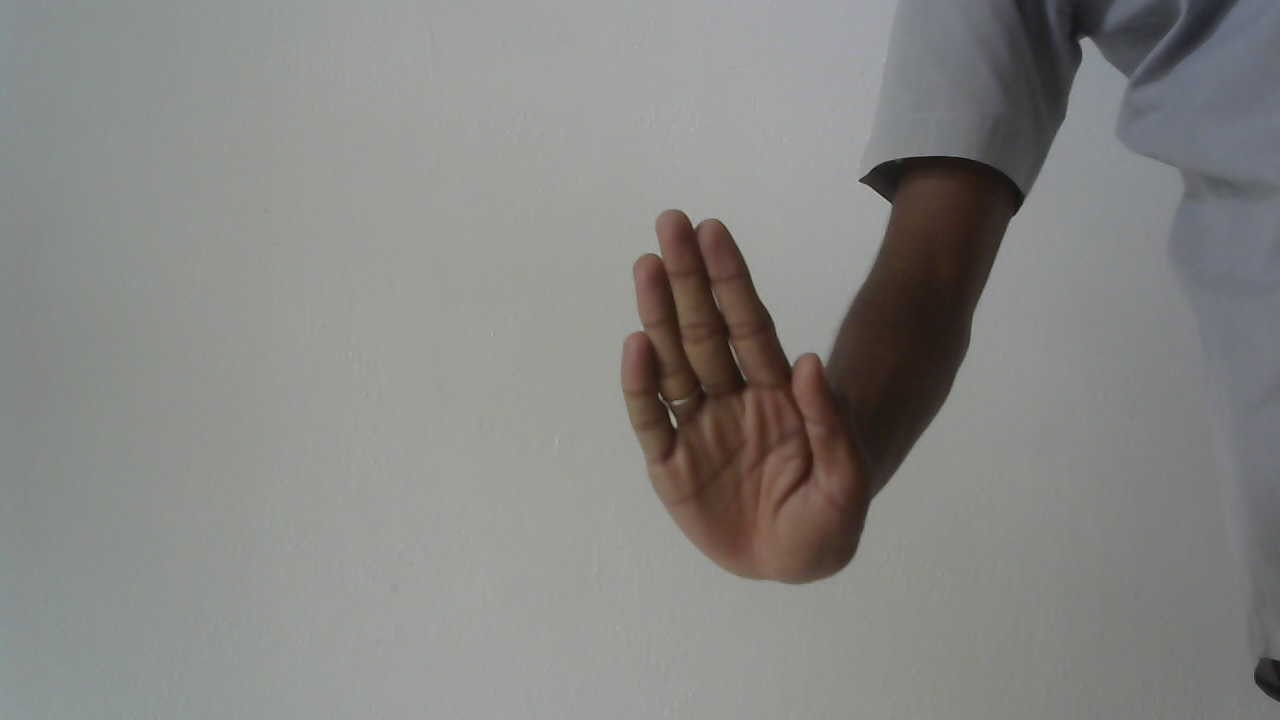hello: (606, 201, 876, 596)
